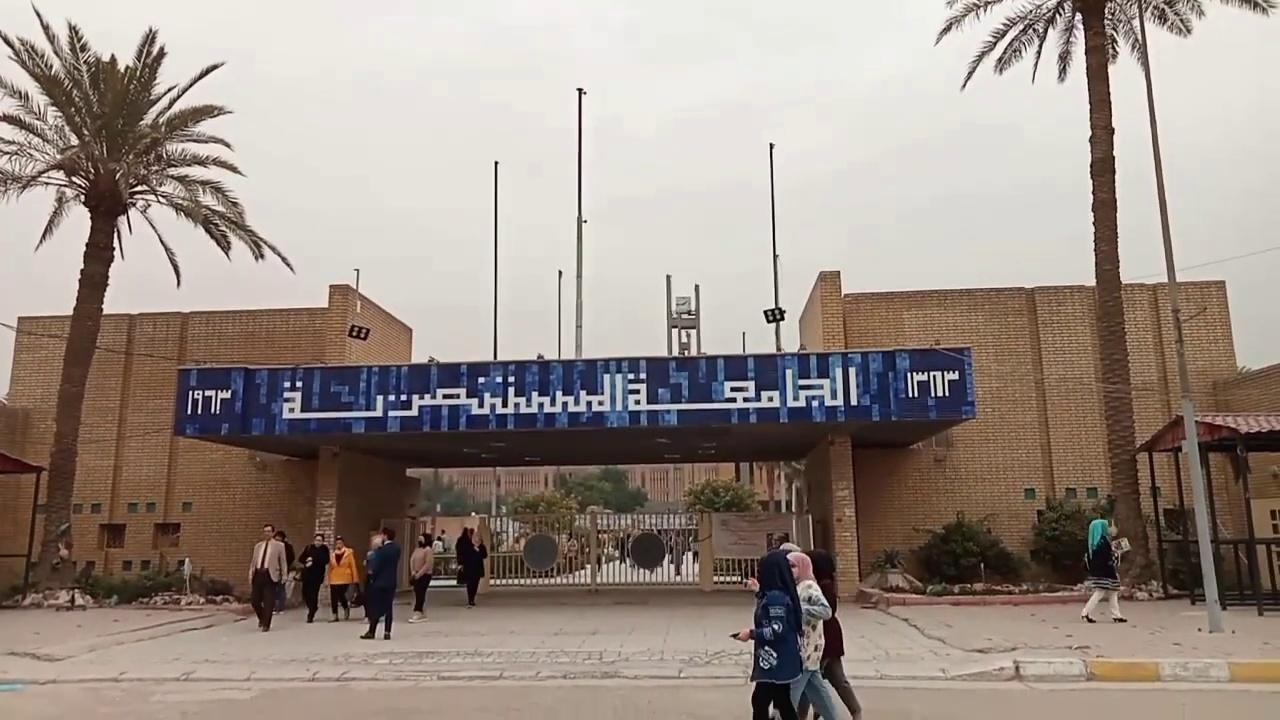person: (731, 549, 804, 719), (802, 548, 862, 719), (1080, 503, 1128, 623), (359, 526, 401, 640), (247, 523, 288, 631), (296, 531, 330, 622), (326, 535, 360, 622), (455, 527, 487, 608), (406, 534, 434, 622), (360, 535, 383, 622), (273, 530, 295, 613), (669, 530, 685, 575)
tree: (932, 0, 1277, 593), (0, 1, 295, 594), (680, 475, 763, 586), (910, 509, 1018, 585), (504, 487, 582, 575), (1029, 495, 1091, 584), (680, 474, 763, 516)
